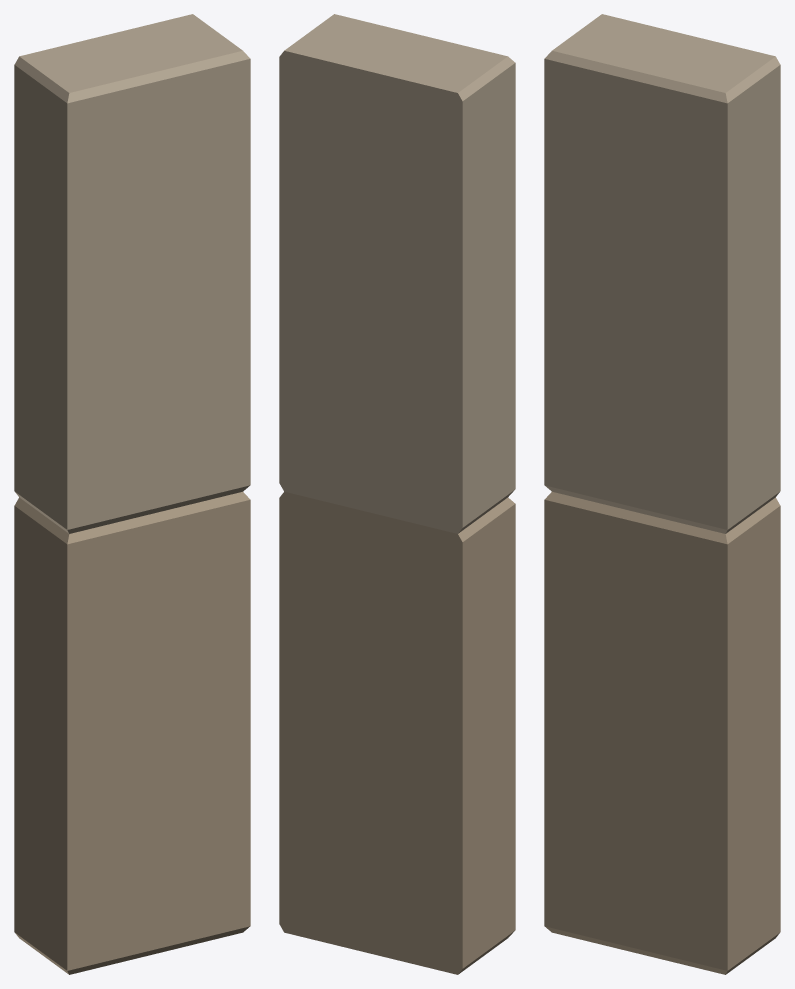
The model's file is Pillar_Exterior_03.glb.
3 renders of one model, left to right at view 1: azimuth 30°, elevation 25°; view 2: azimuth 150°, elevation 25°; view 3: azimuth 330°, elevation 25°, orthographic.
Visible parts, largest first — view 1: SM_Env_Pillar_Exterior_03; view 2: SM_Env_Pillar_Exterior_03; view 3: SM_Env_Pillar_Exterior_03.
Part boxes in pixels (x1,y1,x2,y2): SM_Env_Pillar_Exterior_03: [14, 14, 250, 974]; SM_Env_Pillar_Exterior_03: [279, 14, 515, 974]; SM_Env_Pillar_Exterior_03: [544, 14, 780, 974].
Size of the model in its own units: 0.652 by 3 by 0.326.
Materials: 1 (1 with a texture image).
